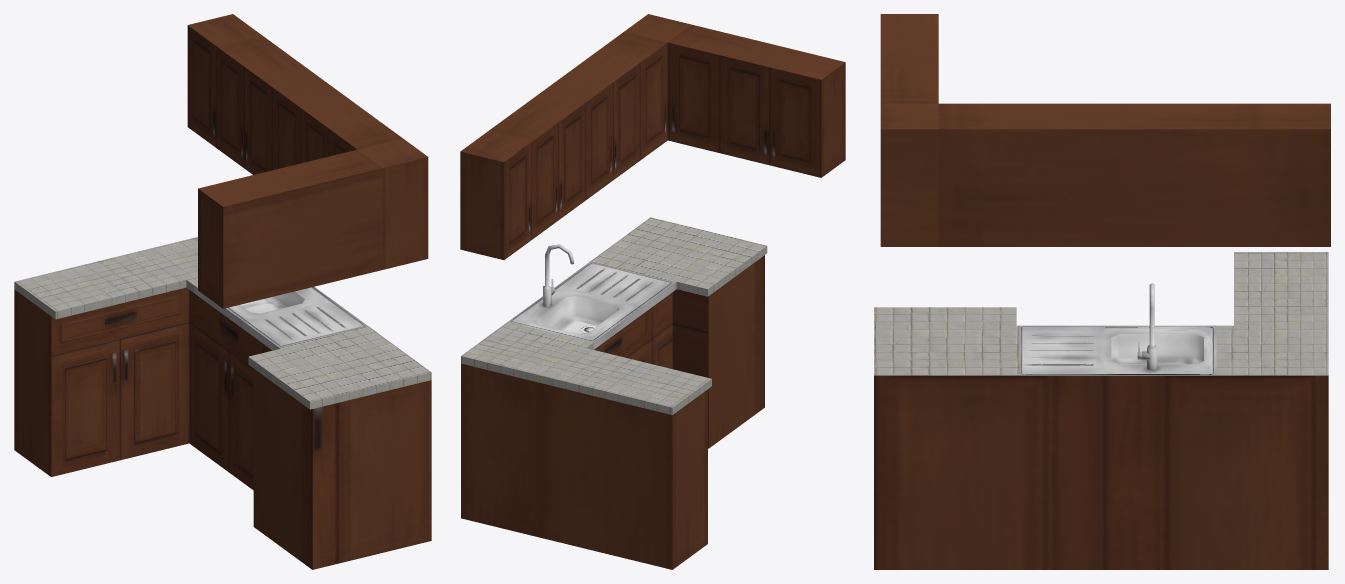
The model's file is kitch.glb.
The picture shows the model from 3 angles, left to right: view 1: azimuth 30°, elevation 25°; view 2: azimuth 150°, elevation 25°; view 3: azimuth 270°, elevation 25°; orthographic projection. The views are drawn at different scales.
Parts seen in each view (by area): view 1: kitchen.-col, cupboard.001; view 2: kitchen.-col, cupboard.001, washbasin_L.001; view 3: kitchen.-col, cupboard.001, washbasin_L.001.
Part boxes in pixels (<box>): kitchen.-col: <box>14,237,431,569</box>; cupboard.001: <box>187,14,428,308</box>; kitchen.-col: <box>461,217,767,569</box>; cupboard.001: <box>460,14,845,259</box>; washbasin_L.001: <box>543,244,573,306</box>; kitchen.-col: <box>874,252,1328,569</box>; cupboard.001: <box>880,14,1330,246</box>; washbasin_L.001: <box>1137,283,1157,370</box>.
Size of the model in its own units: 1.6 by 2.66 by 2.5.
5 materials, 5 textured.
